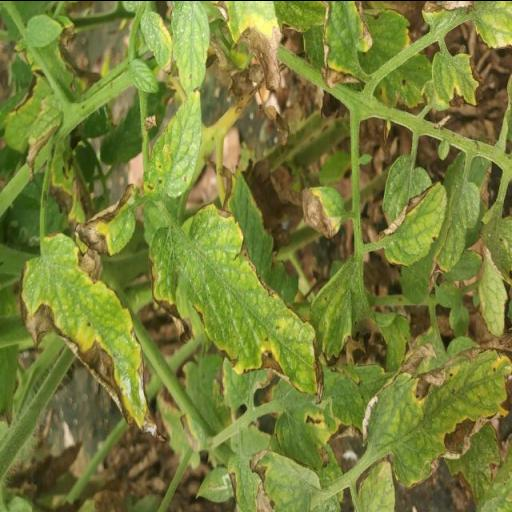disease_tomato: (146, 198, 328, 408), (16, 229, 168, 449), (358, 338, 512, 493), (376, 172, 450, 270), (73, 176, 139, 256)
